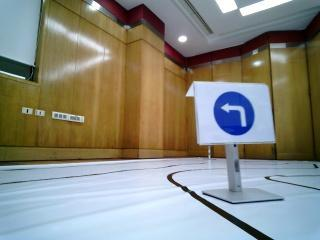left: (195, 82, 271, 141)
